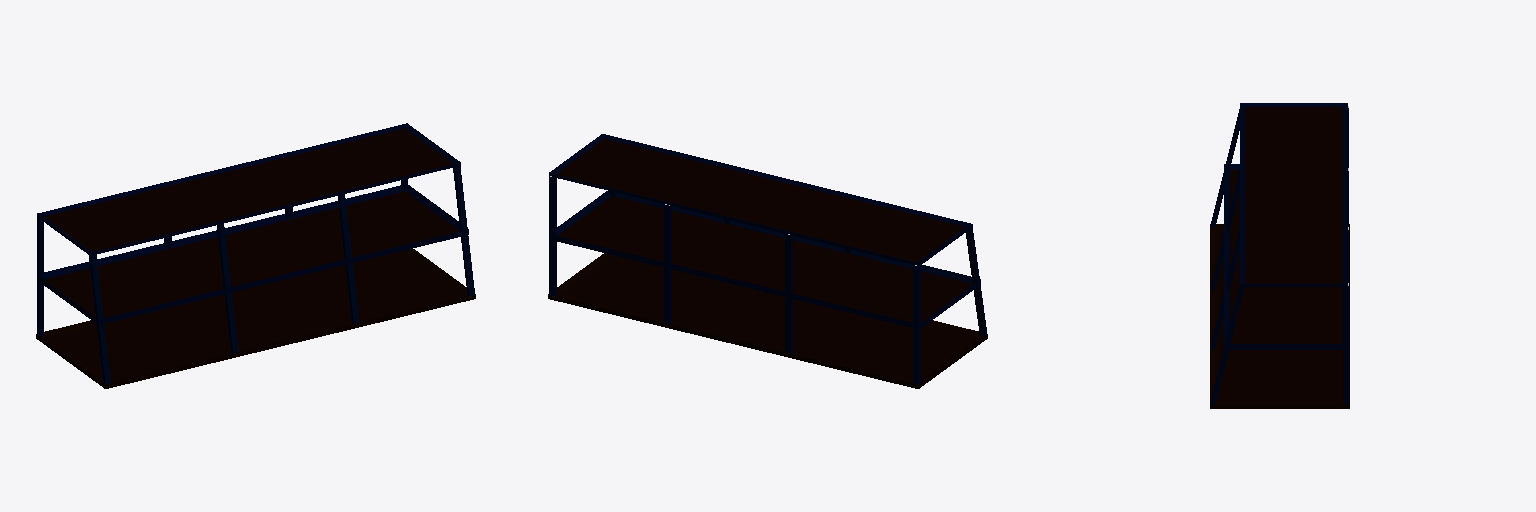
The model's file is big_shelves.obj.
3 renders of one model, left to right at view 1: azimuth 30°, elevation 25°; view 2: azimuth 150°, elevation 25°; view 3: azimuth 270°, elevation 25°, orthographic.
Parts seen in each view (by area): view 1: plane, plane.001, plane.002, collumns; view 2: plane.001, plane, plane.002, collumns; view 3: plane.002, plane, plane.001, collumns.
Part boxes in pixels (x1,y1,x2,y2): plane: (36, 249, 475, 388); plane.001: (37, 185, 468, 324); plane.002: (37, 123, 460, 255); collumns: (37, 166, 474, 384); plane.001: (555, 191, 980, 329); plane: (548, 253, 987, 388); plane.002: (549, 134, 972, 265); collumns: (549, 176, 986, 384); plane.002: (1240, 103, 1347, 286); plane: (1210, 224, 1349, 408); plane.001: (1224, 164, 1347, 349); collumns: (1211, 106, 1348, 404).
Bounding box in the file's own units: 6.13 × 1.98 × 2.